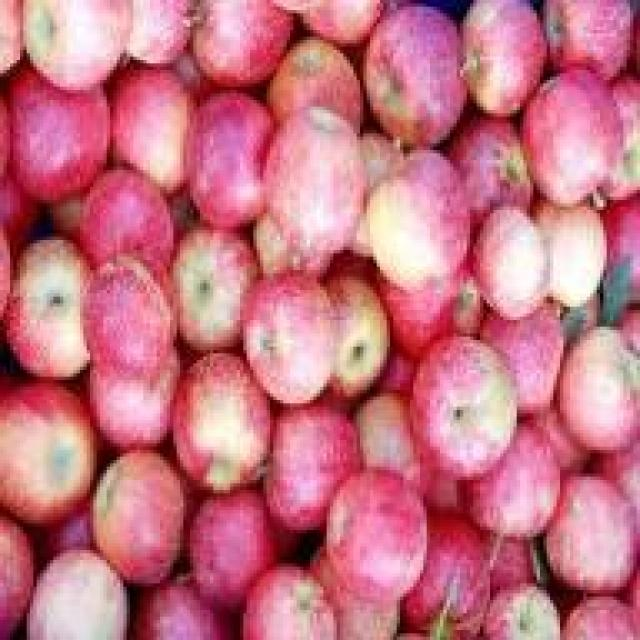apple: (357, 7, 470, 150), (263, 110, 367, 240), (417, 340, 513, 467), (523, 70, 620, 193), (87, 257, 180, 380), (323, 470, 420, 587), (367, 153, 463, 270), (170, 357, 267, 463), (97, 447, 180, 563), (247, 277, 333, 383)
